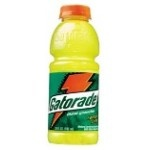grozi_15: (47, 4, 100, 146)
